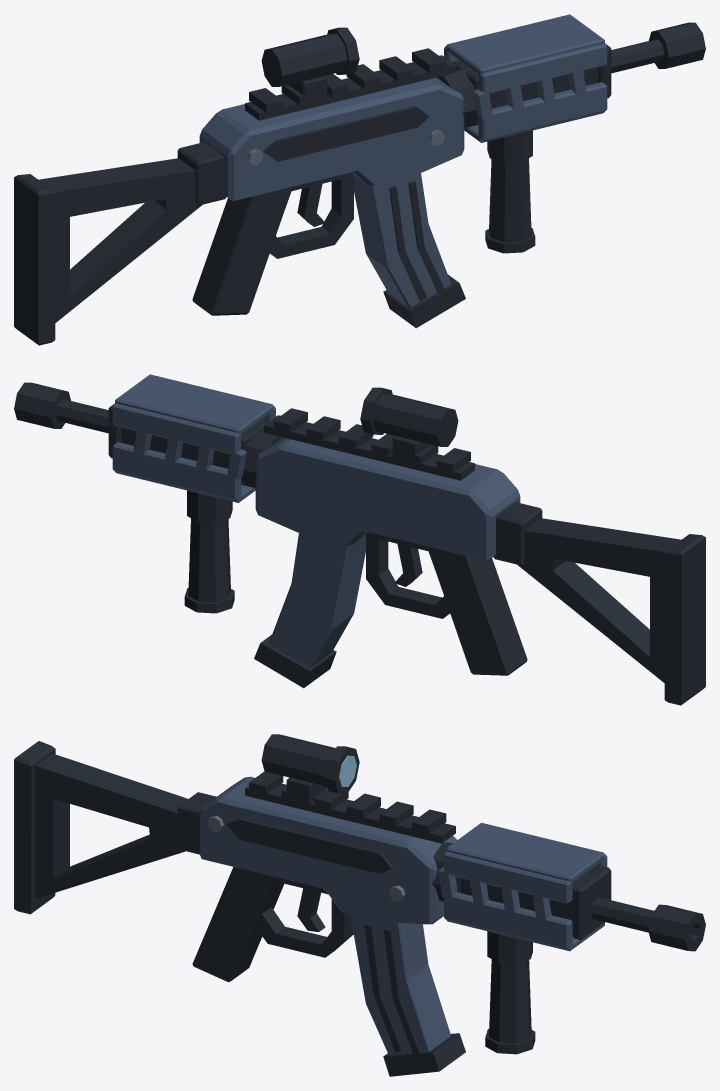
3 renders of one model, top to bottom at view 1: azimuth 30°, elevation 25°; view 2: azimuth 150°, elevation 25°; view 3: azimuth 330°, elevation 25°, orthographic.
Parts seen in each view (by area): view 1: Receptor, Coronha vazada, Punho, Apoio da coronha, Carregador, Tampa frontal superior, Placa inferior frontal, Painel lateral, Mira octogonal, Apoio frontal, Arco de proteção, Placa superior frontal (+18 smaller); view 2: Receptor, Coronha vazada, Carregador, Punho, Apoio da coronha, Tampa frontal superior, Placa inferior frontal.001, Mira octogonal, Apoio frontal, Arco de proteção, Placa superior frontal.001, Base do trilho (+15 smaller); view 3: Receptor, Coronha vazada, Carregador, Punho, Tampa frontal superior, Apoio da coronha, Placa inferior frontal, Painel lateral, Apoio frontal, Placa superior frontal, Arco de proteção, Mira octogonal (+18 smaller).
Part boxes in pixels (left/top/right/bottom): Receptor: left=199, top=77, right=464, bottom=200; Coronha vazada: left=38, top=158, right=202, bottom=322; Punho: left=192, top=186, right=292, bottom=315; Apoio da coronha: left=14, top=174, right=55, bottom=345; Carregador: left=354, top=173, right=451, bottom=307; Tampa frontal superior: left=446, top=14, right=604, bottom=74; Placa inferior frontal: left=478, top=82, right=607, bottom=140; Painel lateral: left=263, top=106, right=429, bottom=161; Mira octogonal: left=261, top=33, right=347, bottom=86; Apoio frontal: left=489, top=158, right=531, bottom=242; Arco de proteção: left=270, top=172, right=353, bottom=258; Placa superior frontal: left=478, top=43, right=607, bottom=93; Receptor: left=255, top=437, right=520, bottom=560; Coronha vazada: left=517, top=518, right=681, bottom=682; Carregador: left=268, top=533, right=365, bottom=667; Punho: left=427, top=546, right=527, bottom=675; Apoio da coronha: left=664, top=534, right=705, bottom=705; Tampa frontal superior: left=115, top=374, right=273, bottom=434; Placa inferior frontal.001: left=112, top=442, right=241, bottom=500; Mira octogonal: left=372, top=393, right=458, bottom=446; Apoio frontal: left=188, top=518, right=230, bottom=602; Arco de proteção: left=366, top=532, right=449, bottom=618; Placa superior frontal.001: left=112, top=403, right=241, bottom=453; Base do trilho: left=264, top=415, right=474, bottom=480; Receptor: left=199, top=776, right=456, bottom=924; Coronha vazada: left=35, top=753, right=187, bottom=898; Carregador: left=350, top=915, right=450, bottom=1054; Punho: left=192, top=867, right=283, bottom=982; Tampa frontal superior: left=446, top=822, right=604, bottom=882; Apoio da coronha: left=14, top=741, right=55, bottom=914; Placa inferior frontal: left=444, top=892, right=572, bottom=949; Painel lateral: left=227, top=818, right=393, bottom=873; Apoio frontal: left=489, top=959, right=531, bottom=1043; Placa superior frontal: left=444, top=851, right=572, bottom=903; Arco de proteção: left=256, top=877, right=353, bottom=957; Mira octogonal: left=261, top=734, right=335, bottom=786.
Size of the model in its own units: 5.24 by 2.28 by 0.5575.
